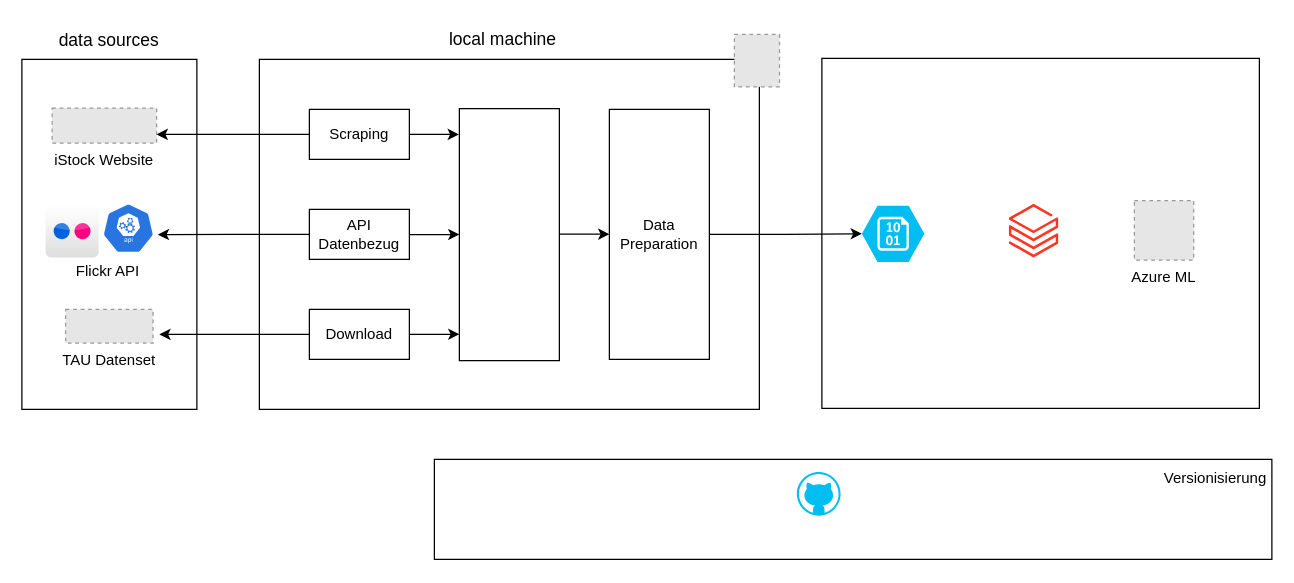
Image size: 1294x583. Some labels were removed from this diagram. Grey dashed boxes stand in for pictures. The box of each missing label's shape, as (x1, y1, x2, y2) in pixels:
Azure Databricks: (1009, 202, 1058, 259)
Azure Storage: (861, 205, 924, 261)
Github-Repository: (796, 471, 840, 515)
local Storage: (458, 107, 559, 361)
